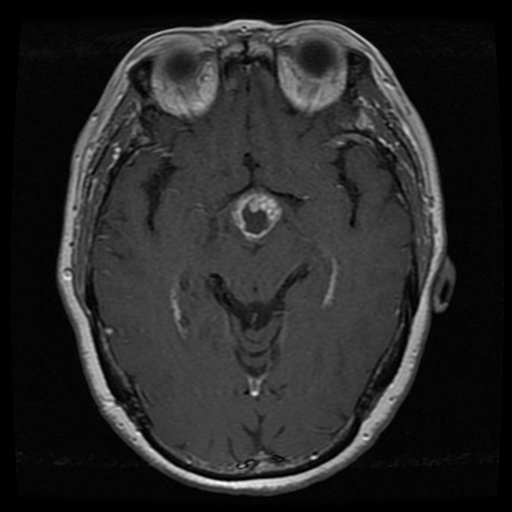pituitary: (232, 190, 282, 239)
